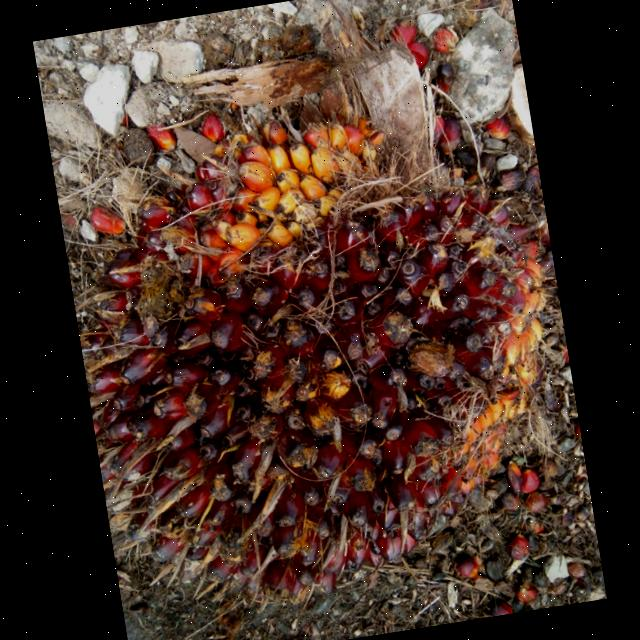Ripe: (78, 111, 545, 605)
